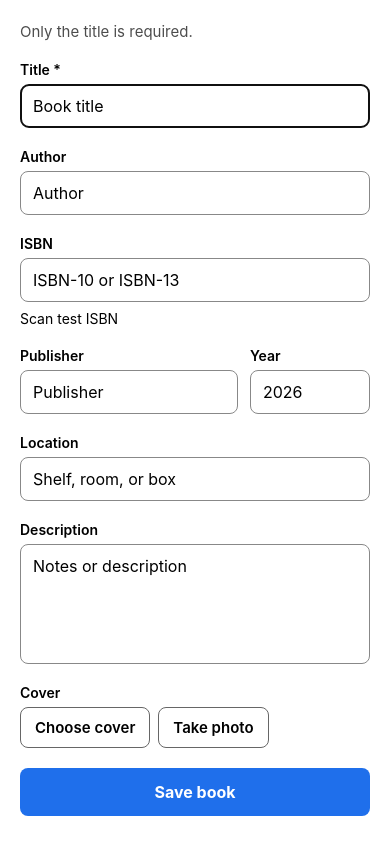
it: <BookForm /> Add Book validation › requires a title before submitting a new book
(page scrolled)
Click the button "Save book": [195, 792] box left=20, top=768, right=370, bottom=816
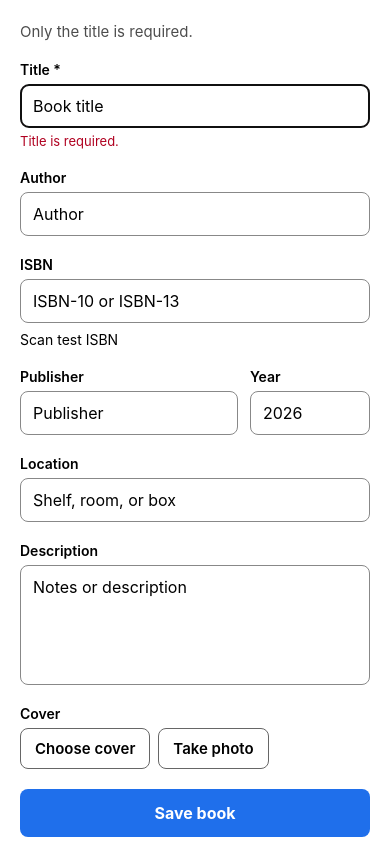
Check: the text "Title is required." is shown, box left=20, top=133, right=119, bottom=149
